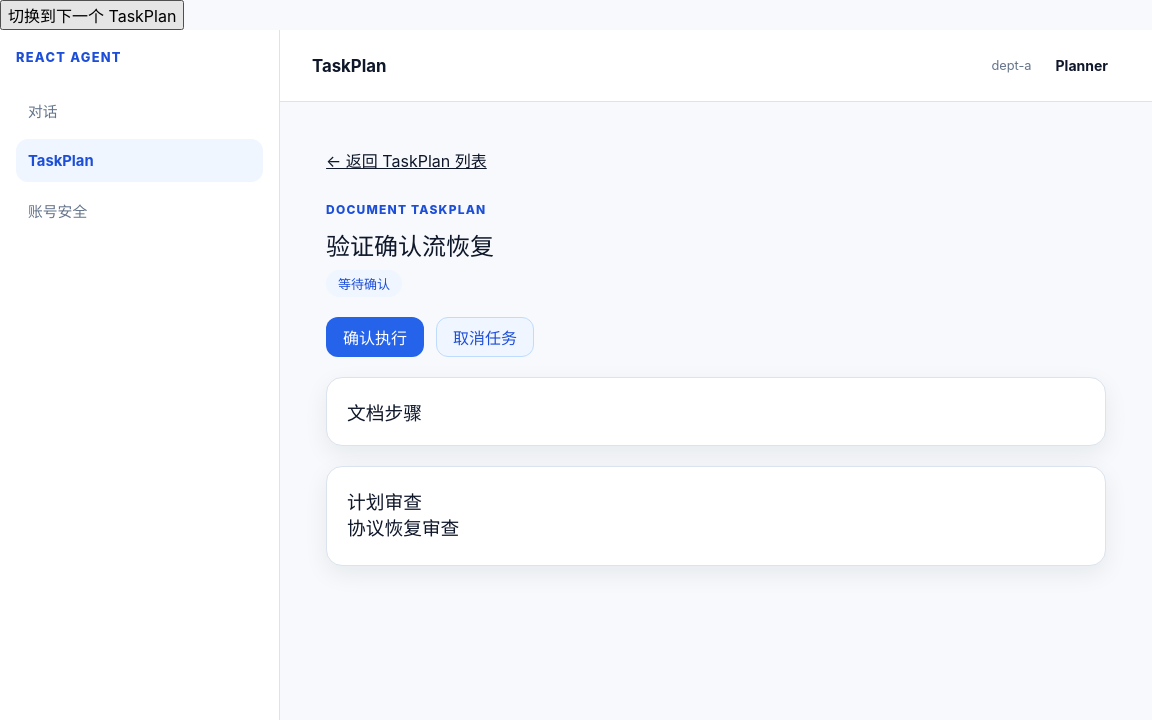
Test case: TaskPlan workspace › treats a mismatched stream request ID as interruption and refetches
The width and height of the screenshot is (1152, 720).
Click the button "确认执行" at (375, 337), box [326,317,424,357]
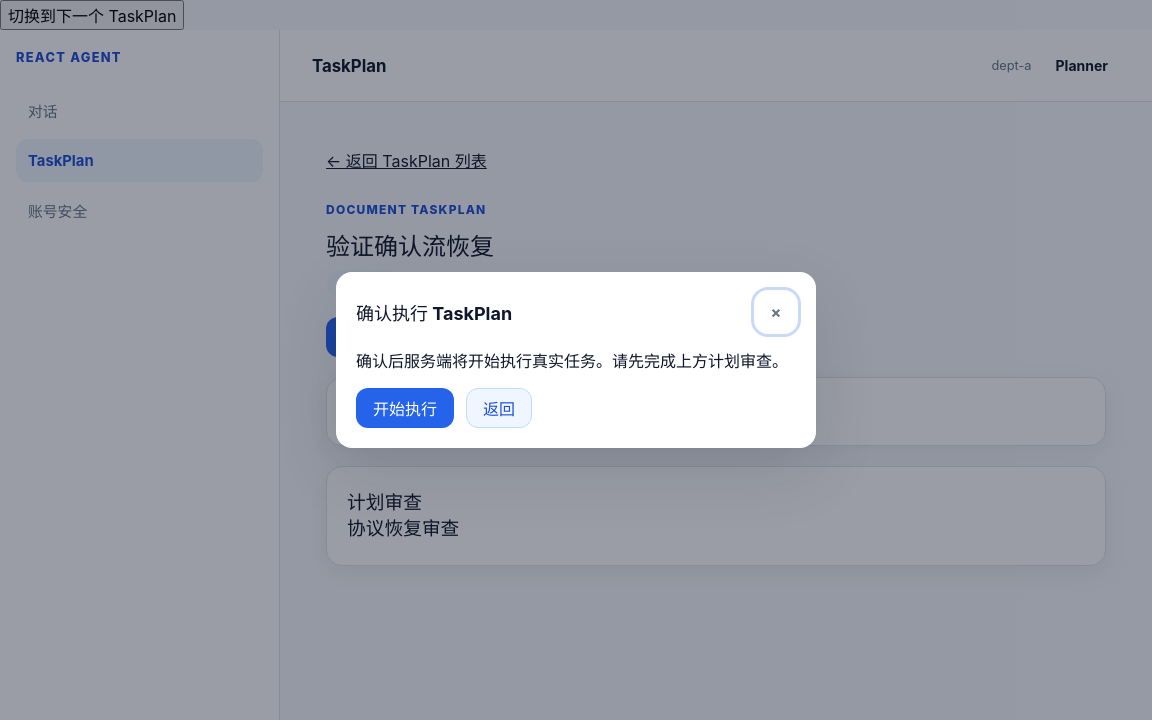
Click the button "开始执行" at (405, 408), box [356,388,454,428]
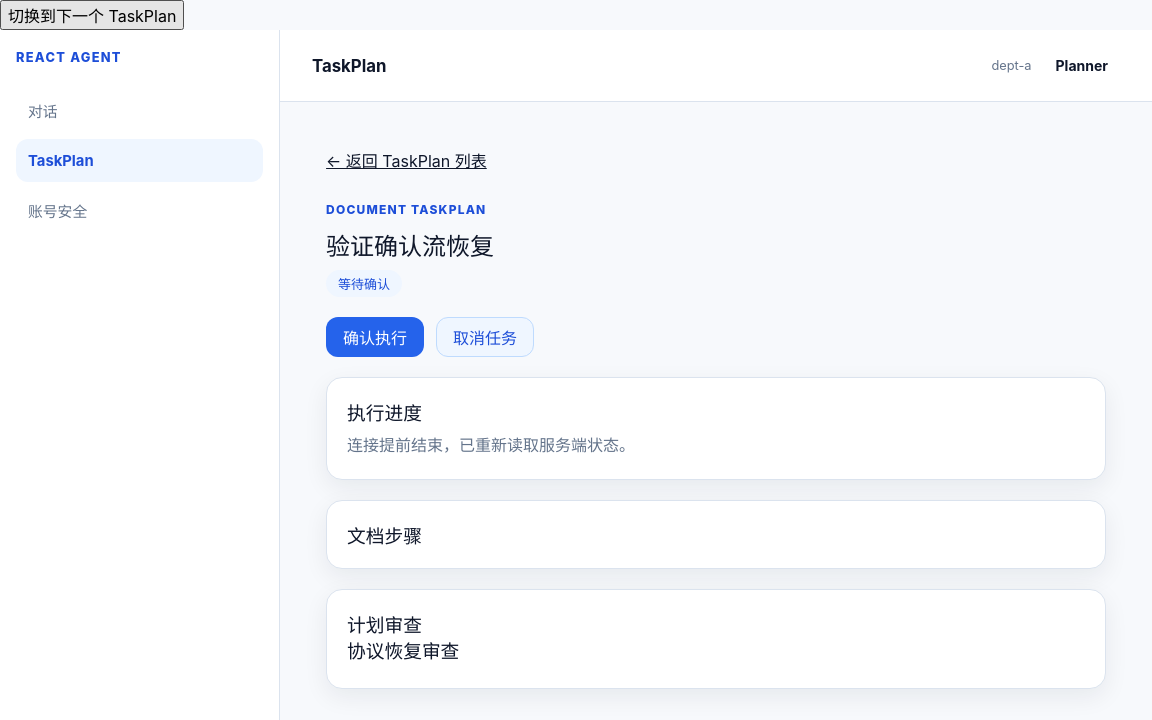
Check: the text "连接提前结束，已重新读取服务端状态。" is shown, box [347,435,635,455]
